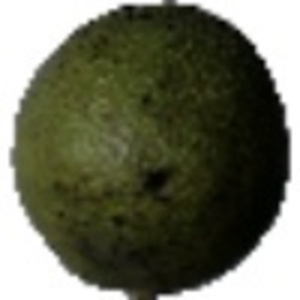abacate: (8, 2, 290, 294)
